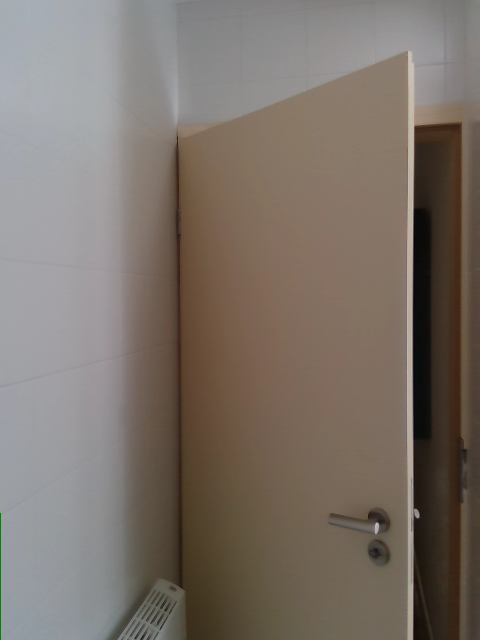semi: (183, 52, 476, 639)
